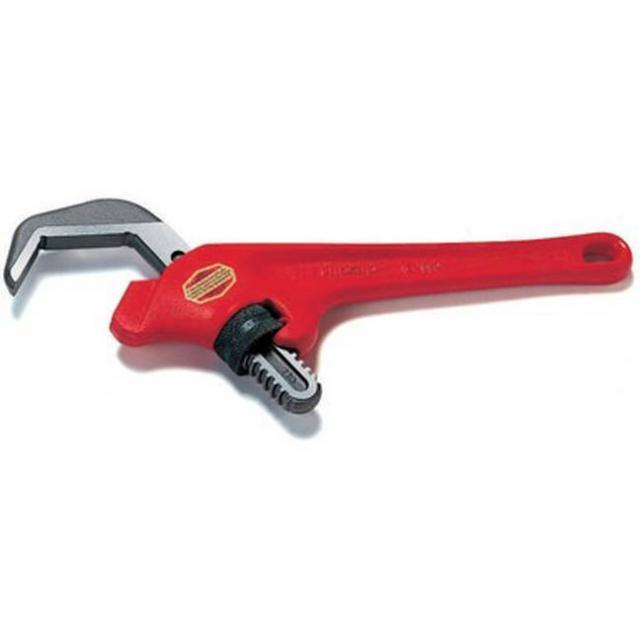wrench: (1, 192, 636, 426)
